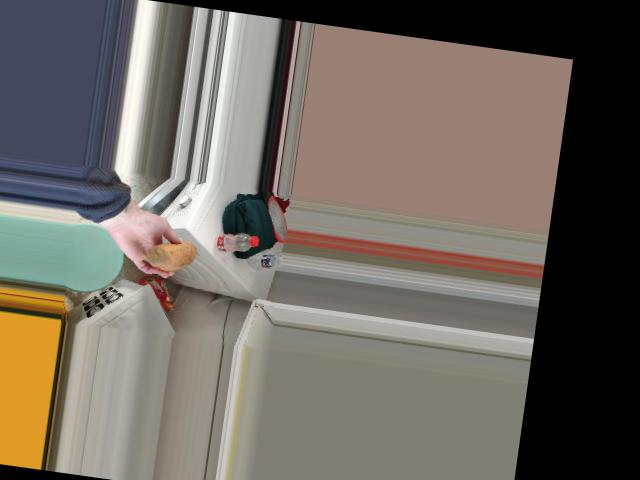sweet_potato: (138, 239, 199, 272)
